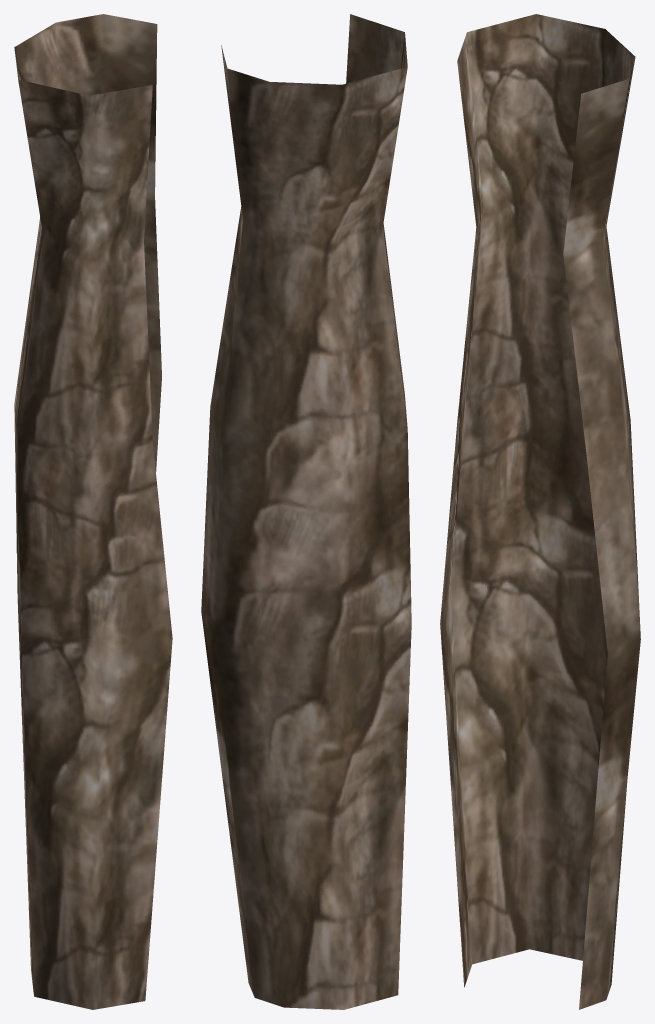
Rendered from OVERHILL_A_01_LINE43.fbx.
3 views of the same model, side by side, from view 1: azimuth 30°, elevation 25°; view 2: azimuth 150°, elevation 25°; view 3: azimuth 270°, elevation 25° (orthographic).
Parts seen in each view (by area): view 1: OVERHILL_A_01_LINE43; view 2: OVERHILL_A_01_LINE43; view 3: OVERHILL_A_01_LINE43.
Boxes of the visible parts, x1,y1,x2,y2 form: OVERHILL_A_01_LINE43: (14, 14, 172, 1009); OVERHILL_A_01_LINE43: (201, 14, 411, 1009); OVERHILL_A_01_LINE43: (440, 14, 640, 1009).
Bounding box in the file's own units: 21021 × 109001 × 21346.
1 material, 1 textured.
